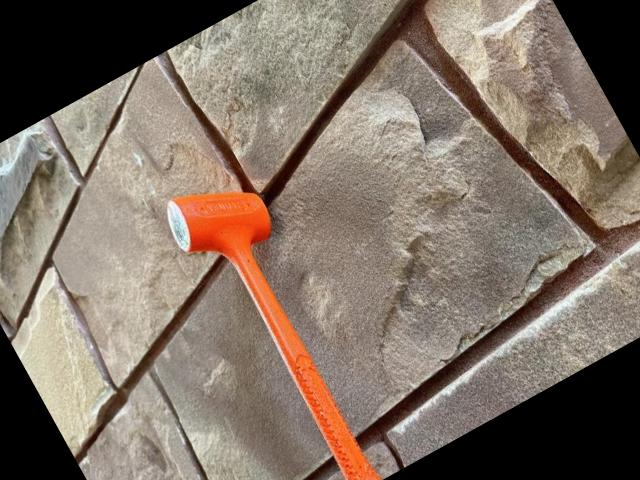hammer: (155, 158, 412, 480)
